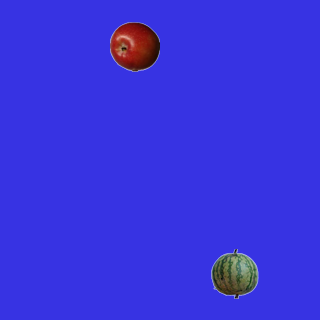Apple Braeburn: (109, 21, 159, 71)
Watermelon: (209, 248, 259, 298)
